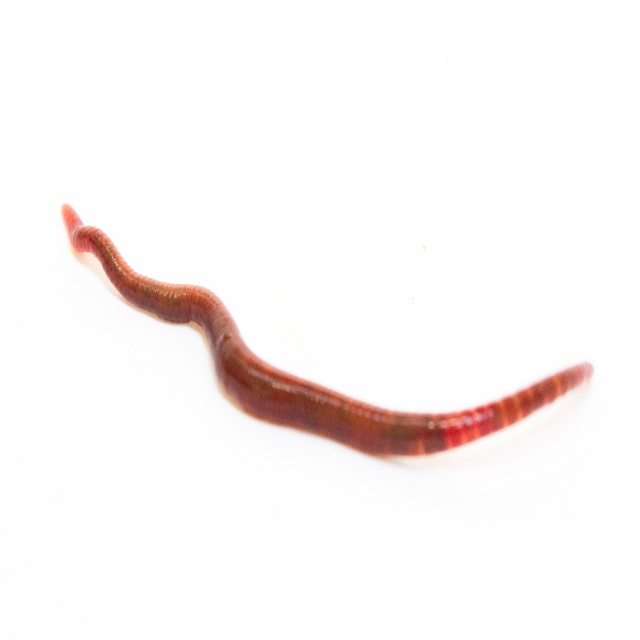Worm: (62, 202, 594, 461)
